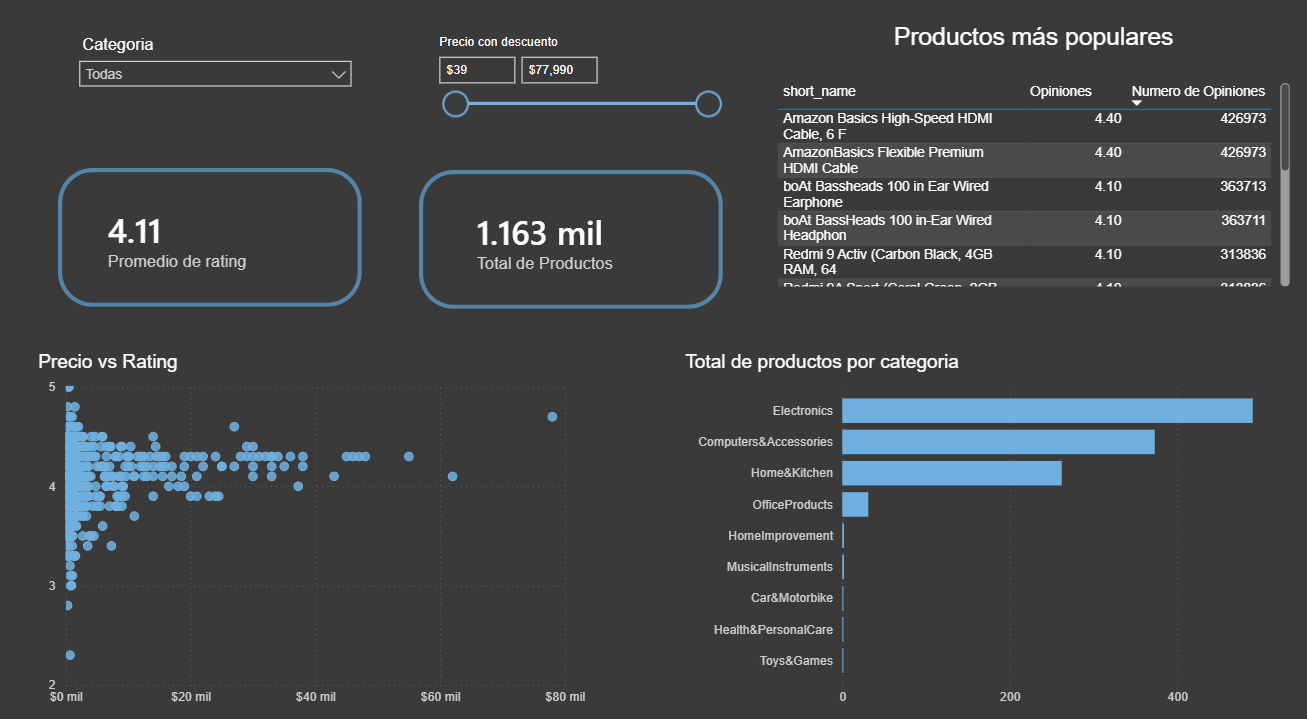

Layout of this report page (visuals, bound fields, positions):
{"tool":"powerbi","page":{"name":"Página 1","canvas":[1280,720],"ordinal":0},"visuals":[{"type":"cardVisual","fields":{"Data":["Avg(amazon_sales_cleaned.rating)"]},"box":[78.8,184.8,241.2,102.1],"z":0},{"type":"shape","box":[411.4,170.2,295.7,135.2],"z":1000},{"type":"cardVisual","fields":{"Data":["amazon_sales_cleaned.Total de Productos"]},"box":[437.7,184.8,242.2,107],"z":2000},{"type":"tableEx","fields":{"Values":["amazon_sales_cleaned.short_name","amazon_sales_cleaned.rating","amazon_sales_cleaned.rating_count"]},"box":[755.7,80.7,508.7,208.1],"z":3000},{"type":"scatterChart","title":"Precio vs Rating","fields":{"Y":["amazon_sales_cleaned.rating"],"X":["amazon_sales_cleaned.discounted_price"]},"box":[36,346.3,542.7,353.1],"z":4000},{"type":"clusteredBarChart","title":"Total de productos por categoria","fields":{"Category":["amazon_sales_cleaned.main_category"],"Y":["CountNonNull(amazon_sales_cleaned.product_id)"]},"box":[666.3,346.3,581.6,353.1],"z":5000},{"type":"shape","box":[60.3,168.3,295.7,135.2],"z":6000},{"type":"slicer","fields":{"Values":["amazon_sales_cleaned.discounted_price"]},"box":[418.2,34,295.7,102.1],"z":7000},{"type":"slicer","fields":{"Values":["amazon_sales_cleaned.main_category"]},"box":[71,34,285,94.3],"z":7001},{"type":"textbox","box":[755.3,21.4,509.1,44.8],"z":7002}]}

Visuals, with their boxes in screenshot pixels (x1, y1, x2, y2), scaled from the page's 1280x720 canvas onto the 1307x719 screenshot:
cardVisual - Avg(amazon_sales_cleaned.rating): [left=80, top=185, right=327, bottom=287]
shape: [left=420, top=170, right=722, bottom=305]
cardVisual - amazon_sales_cleaned.Total de Productos: [left=447, top=185, right=694, bottom=291]
tableEx - amazon_sales_cleaned.short_name x amazon_sales_cleaned.rating: [left=772, top=81, right=1291, bottom=288]
"Precio vs Rating" scatterChart: [left=37, top=346, right=591, bottom=698]
"Total de productos por categoria" clusteredBarChart: [left=680, top=346, right=1274, bottom=698]
shape: [left=62, top=168, right=364, bottom=303]
slicer - amazon_sales_cleaned.discounted_price: [left=427, top=34, right=729, bottom=136]
slicer - amazon_sales_cleaned.main_category: [left=72, top=34, right=364, bottom=128]
textbox: [left=771, top=21, right=1291, bottom=66]
